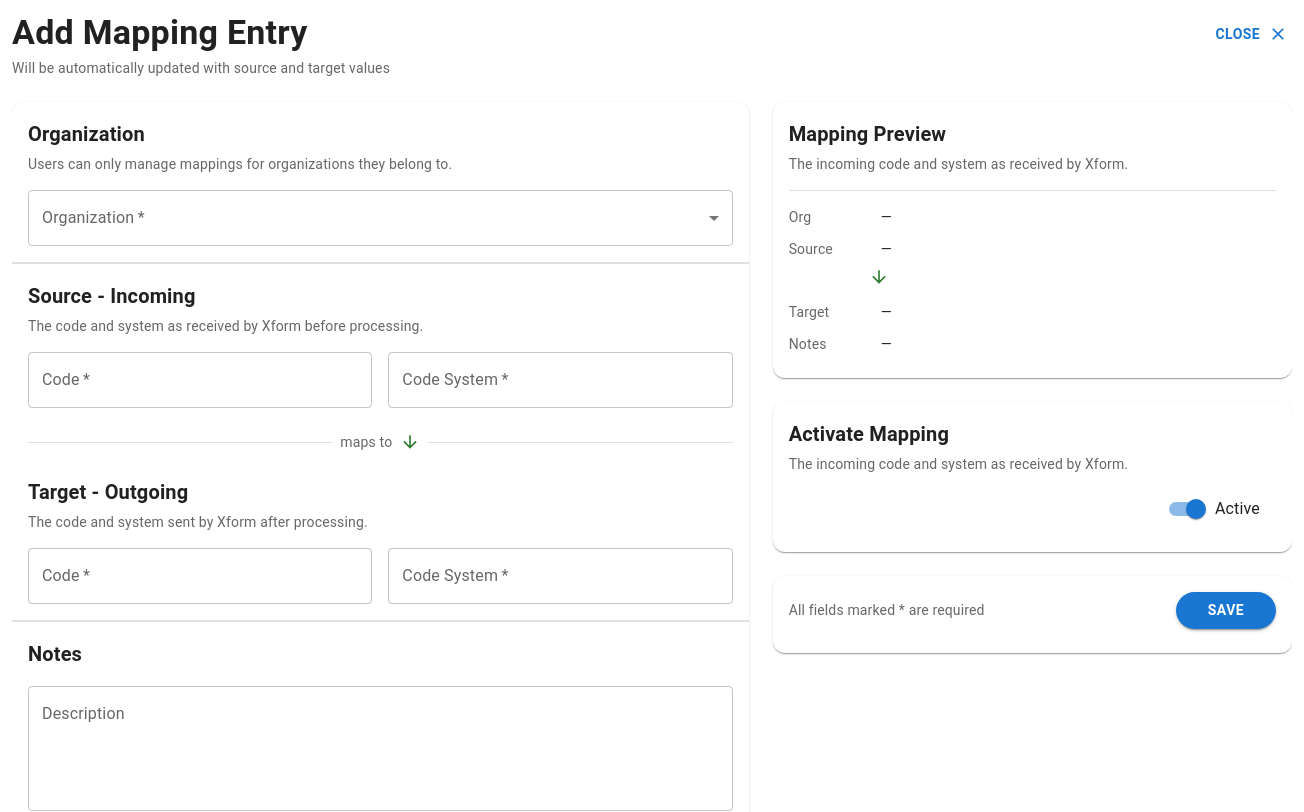
CreateMapping - Add mode › shows validation error when submitting empty form
Click the button "SAVE": (1226, 610) [1176,592,1276,629]
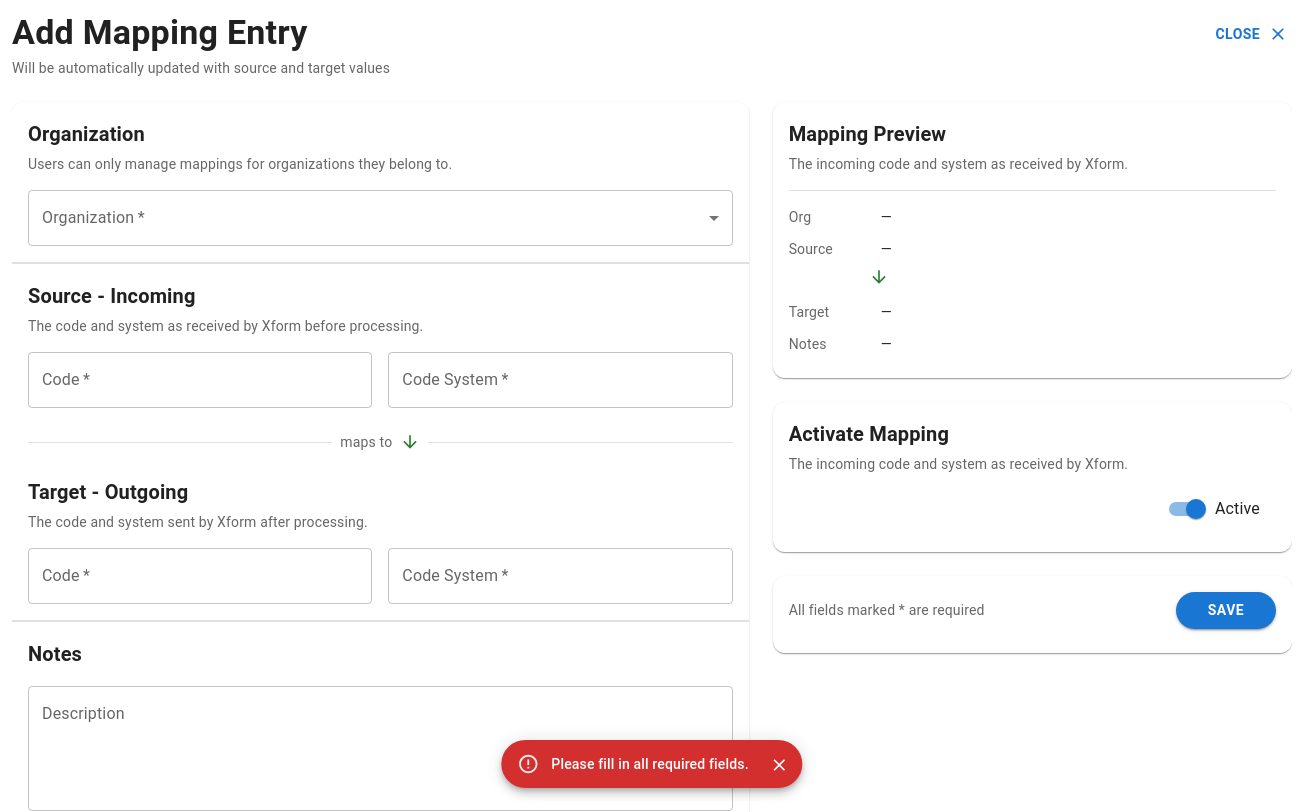
Expected: the text "Please fill in all required fields." is shown, [551,756,749,772]
